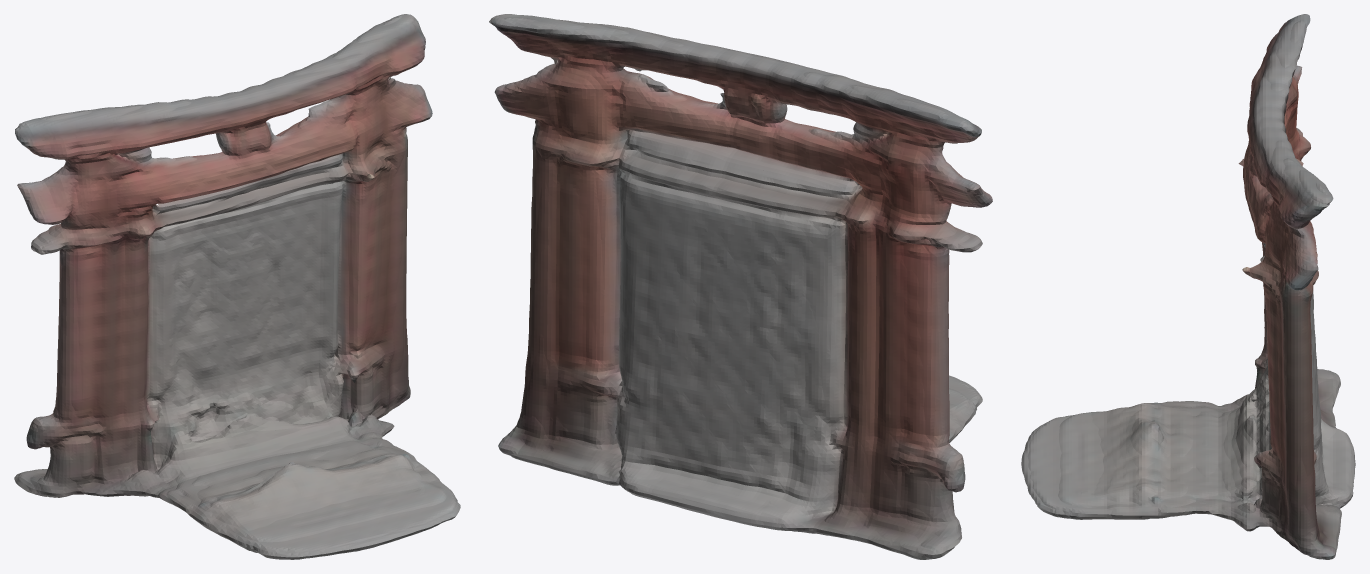
The model's file is torii.glb.
3 renders of one model, left to right at view 1: azimuth 30°, elevation 25°; view 2: azimuth 150°, elevation 25°; view 3: azimuth 270°, elevation 25°, orthographic. The views are drawn at different scales.
Visible parts, largest first — view 1: geometry_0; view 2: geometry_0; view 3: geometry_0.
Boxes of the visible parts, bbox=[...] form: geometry_0: bbox=[14, 14, 460, 559]; geometry_0: bbox=[489, 14, 992, 559]; geometry_0: bbox=[1021, 14, 1355, 559].
Size of the model in its own units: 0.9958 by 0.8815 by 0.7173.
